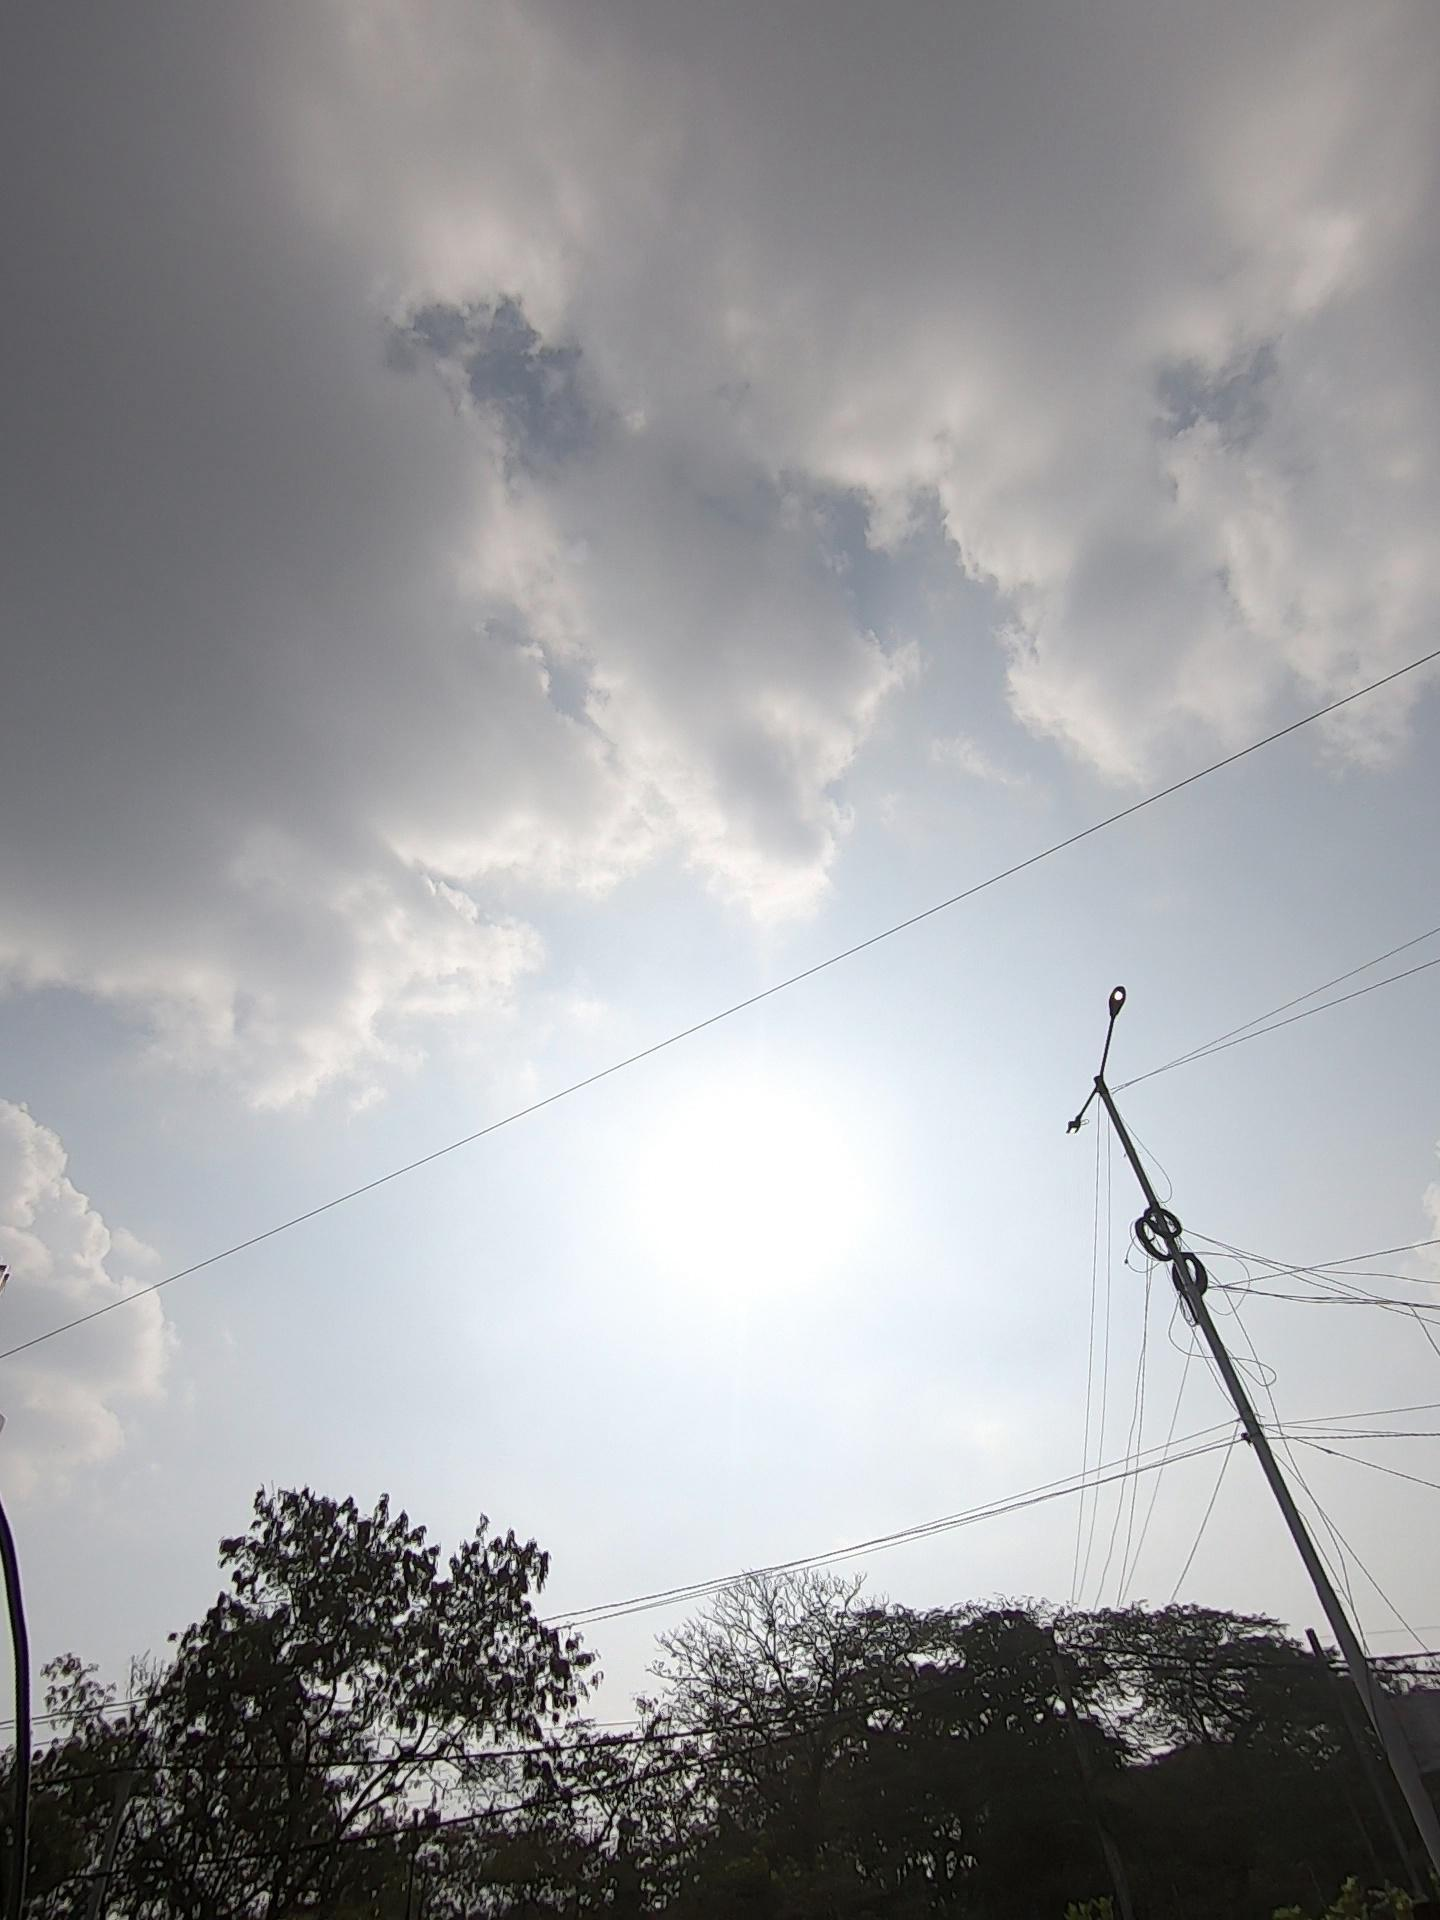off: (980, 966, 1236, 1164)
